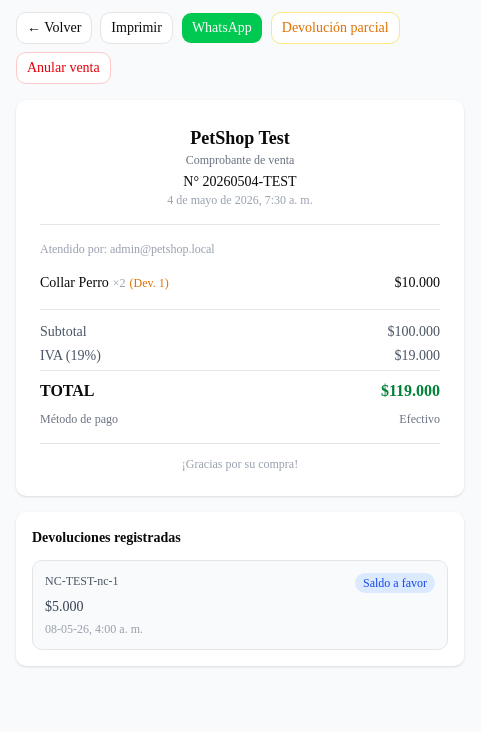
Scenario: SalesTicketPage — anulación de venta (VT-01 a VT-08) › VT-07: al anular con una NC activa con saldo a favor, la confirmación advierte el monto que será invalidado
Expected: the text "Collar Perro" is shown, 40,275 -> 109,290
Click the button "Anular venta" at point(63, 68), box 16,52 -> 111,84
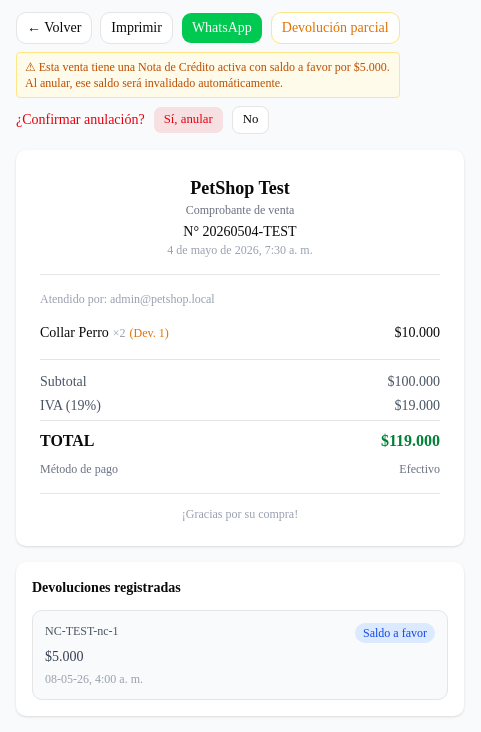
Now the text "Esta venta tiene una Nota de Crédito activa con saldo a favor por $5.000" is shown, box 16,52 -> 400,98
